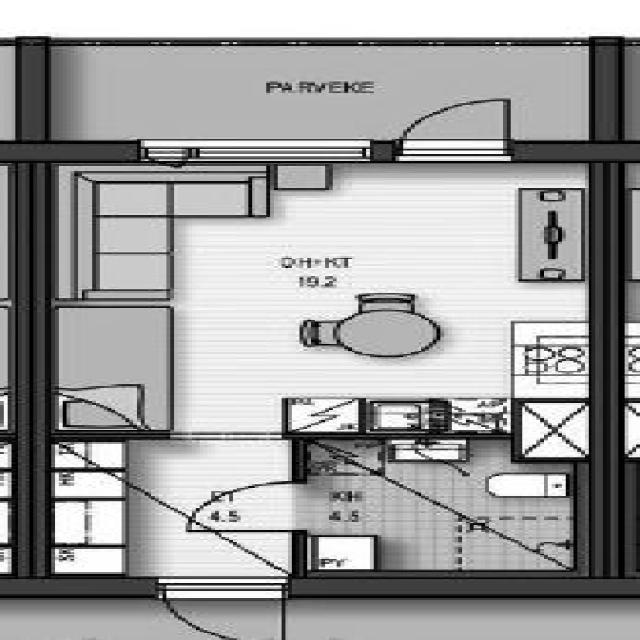door: (170, 478, 347, 539), (379, 94, 523, 159), (158, 576, 298, 640)
window: (104, 128, 376, 172)
zone: (18, 154, 631, 446), (298, 438, 581, 576)
